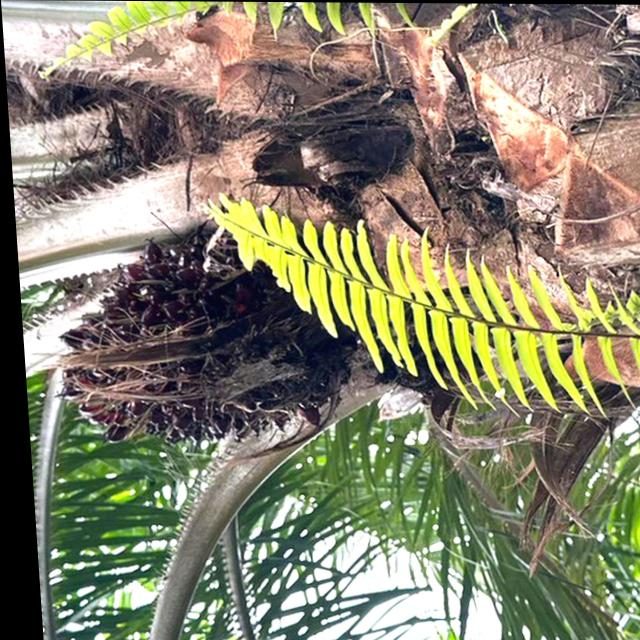ripe: (39, 231, 342, 452)
